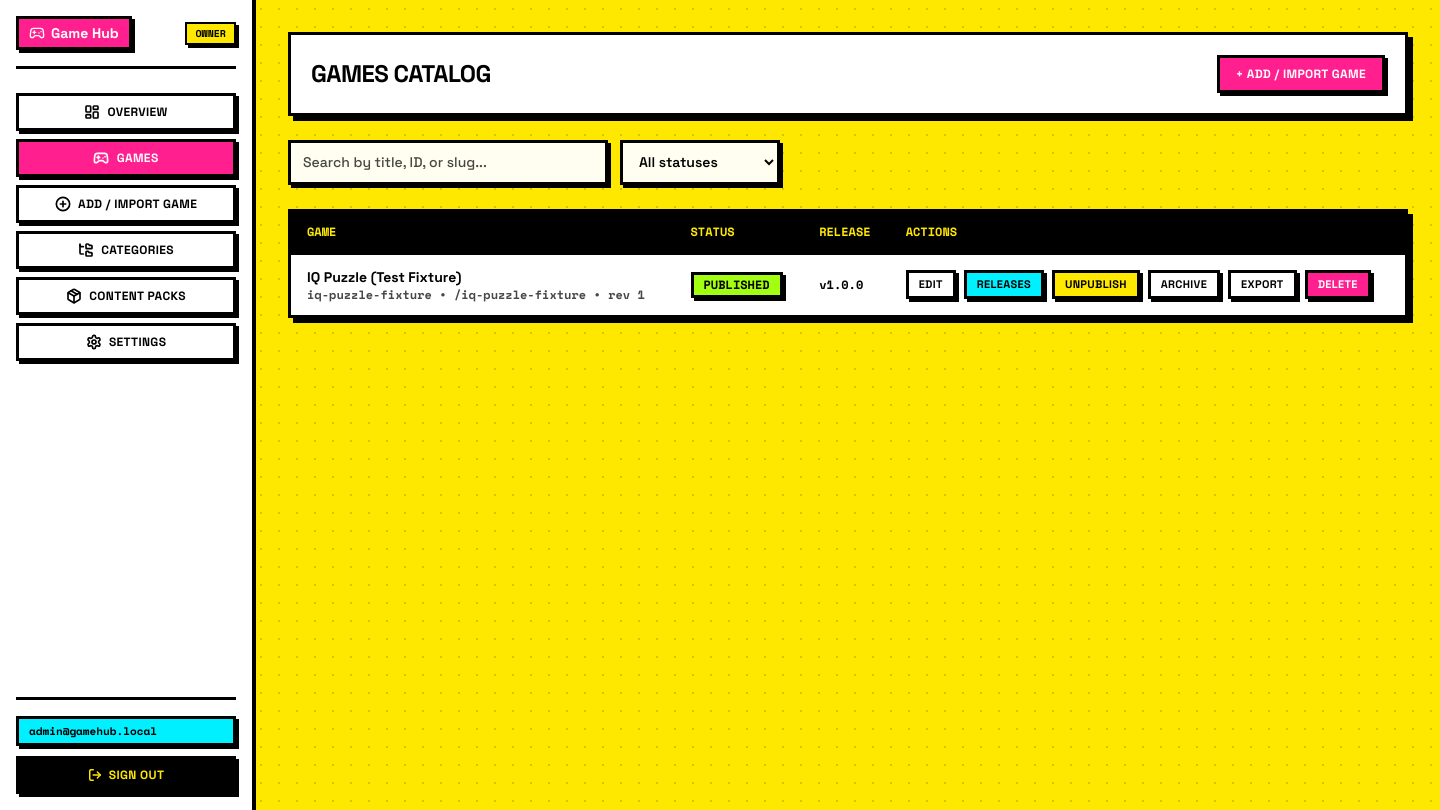
Test: Game Hub Public & Admin Flows › allows authorized admin to register a second game and publish it without Hub code changes
The width and height of the screenshot is (1440, 810).
Expected: the text "IQ Puzzle (Test Fixture)" is shown, [307,268,461,286]
Note: Unpublish first game via UI button
Click the button "Unpublish". click: (1096, 285)
box: [1052,270,1140,299]
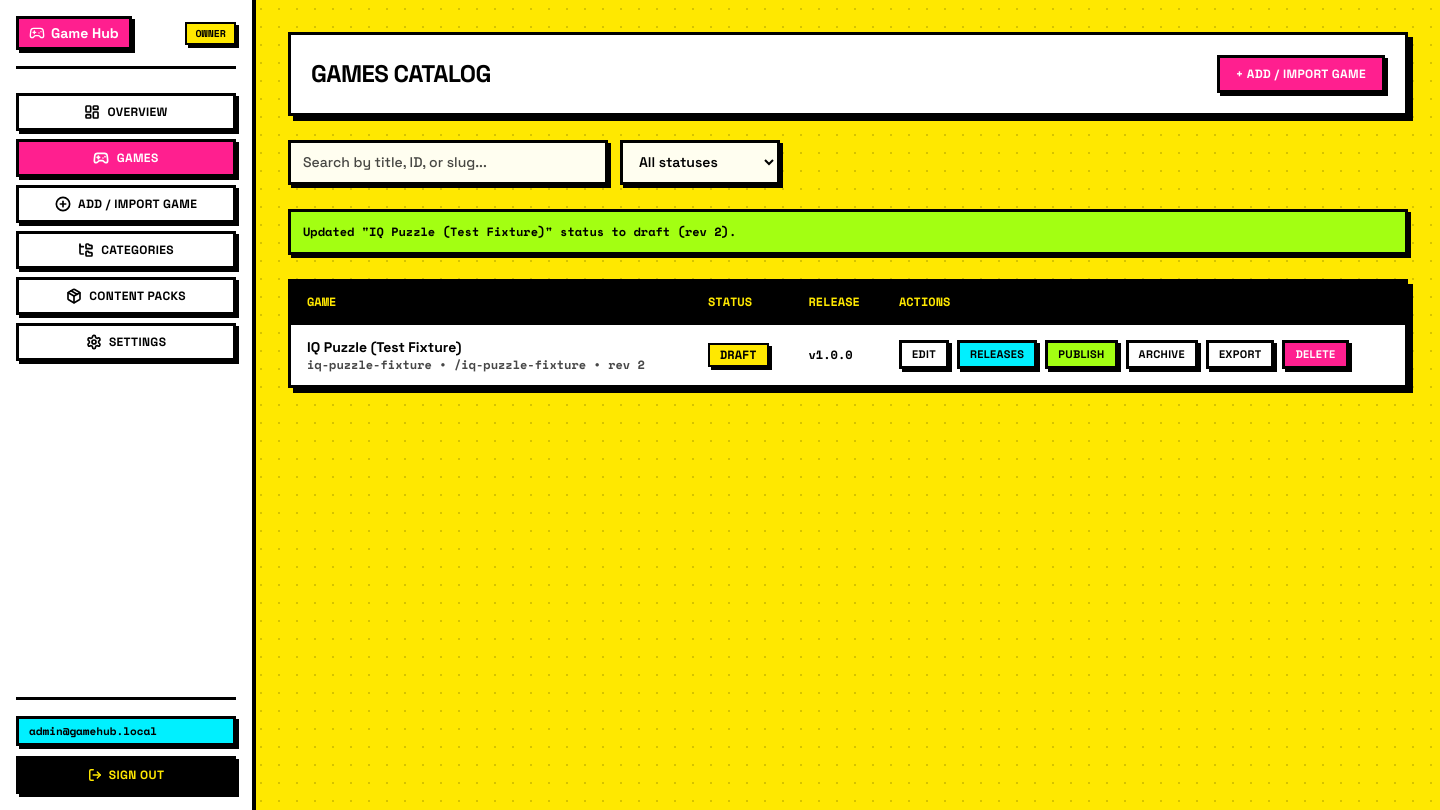
Now the text "Updated \"IQ Puzzle (Test Fixture)\" status to draft (rev 2)." is shown, box [288,209,1408,255]
